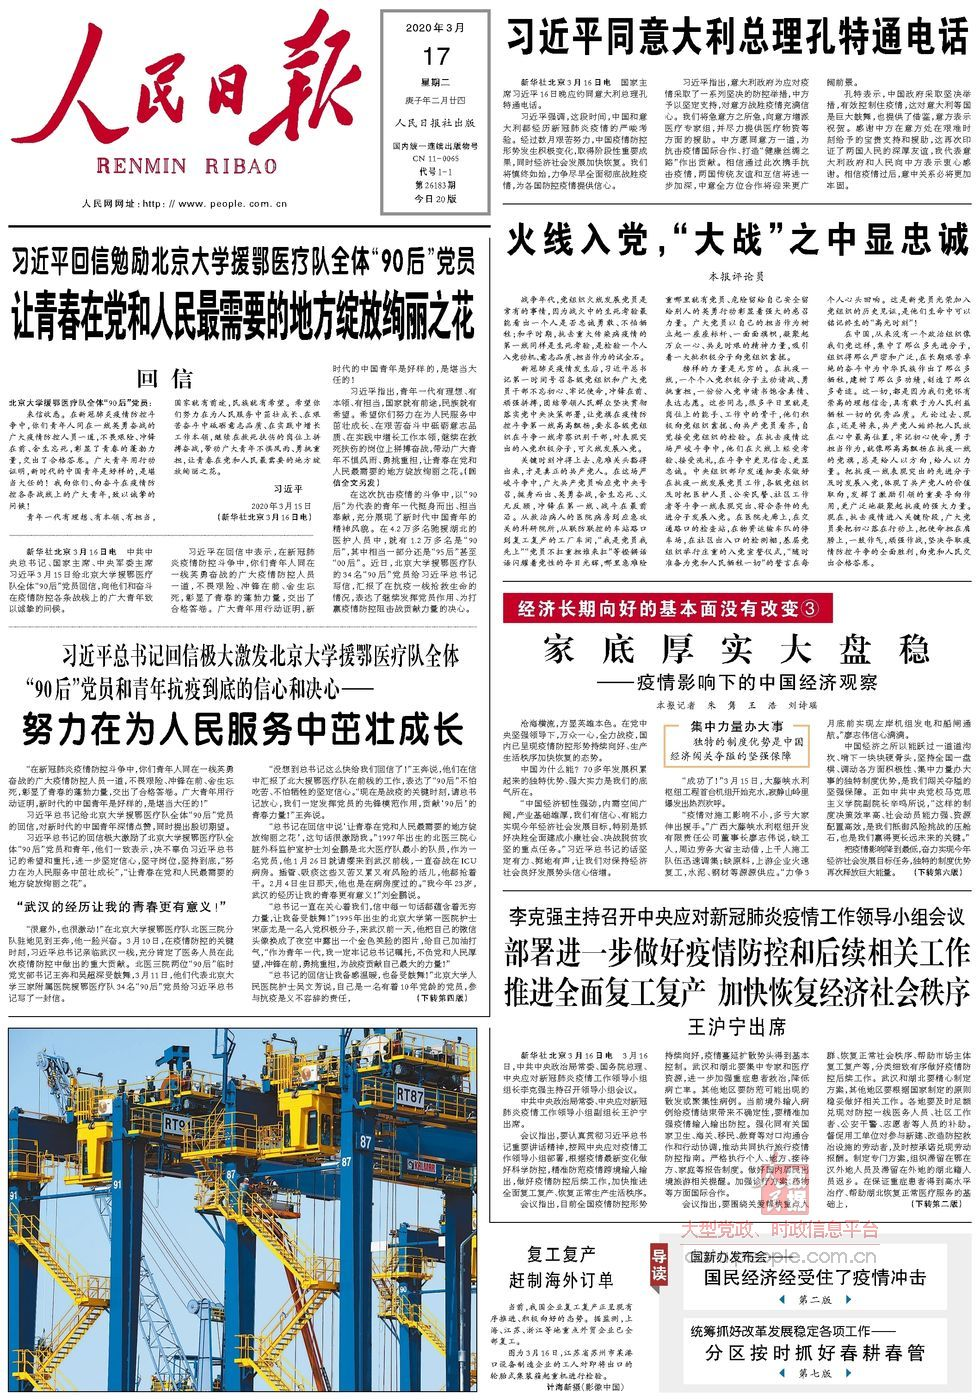pic: (3, 1022, 484, 1395)
